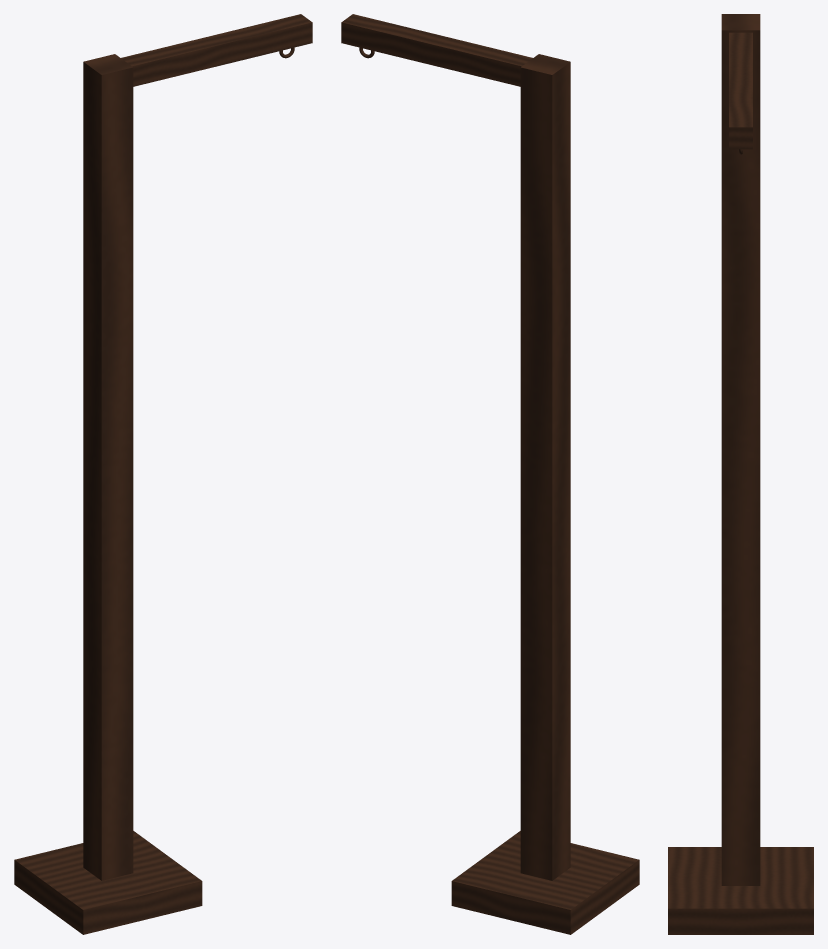
Rendered from farol_poste.obj.
3 renders of one model, left to right at view 1: azimuth 30°, elevation 25°; view 2: azimuth 150°, elevation 25°; view 3: azimuth 270°, elevation 25°, orthographic. The views are drawn at different scales.
Visible parts, largest first — view 1: farol_poste; view 2: farol_poste; view 3: farol_poste.
Boxes of the visible parts, x1=… form: farol_poste: x1=14, y1=14, x2=312, y2=934; farol_poste: x1=341, y1=14, x2=639, y2=934; farol_poste: x1=668, y1=14, x2=813, y2=934.
Bounding box in the file's own units: 0.65 × 2 × 0.3.
Materials: 1 (1 with a texture image).
